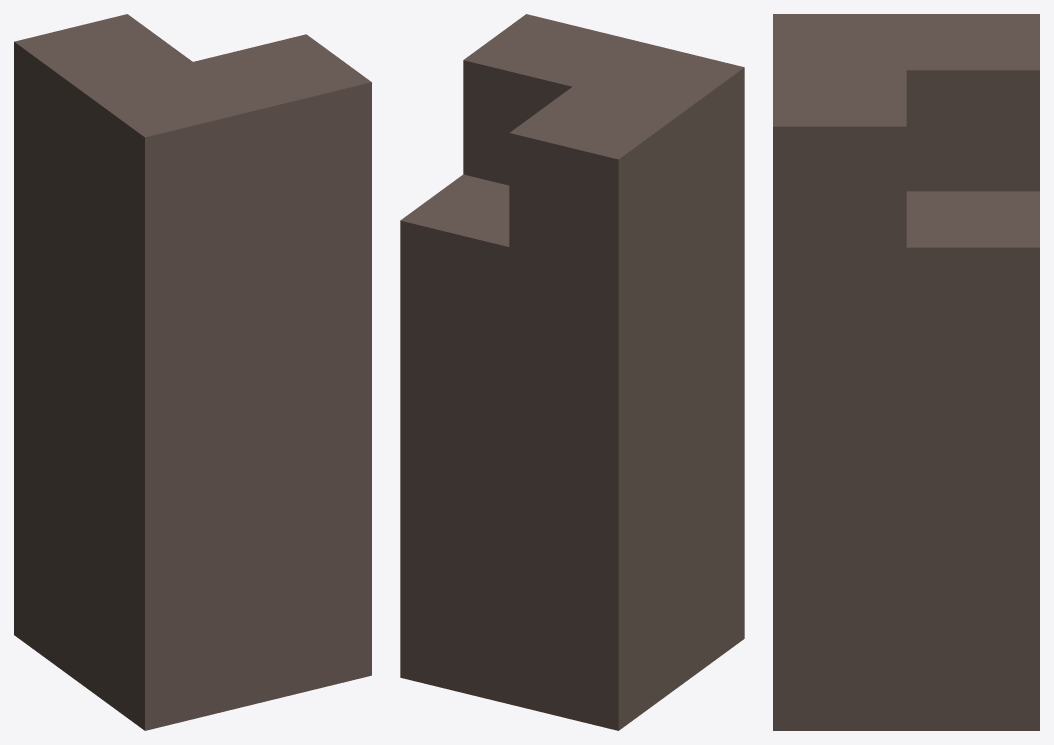
File: lamb__leg_fr.glb
3 views of the same model, side by side, from view 1: azimuth 30°, elevation 25°; view 2: azimuth 150°, elevation 25°; view 3: azimuth 270°, elevation 25° (orthographic). The views are drawn at different scales.
Parts seen in each view (by area): view 1: lamb__leg_fr; view 2: lamb__leg_fr; view 3: lamb__leg_fr.
Boxes of the visible parts, <box> form: lamb__leg_fr: <box>14,14,371,730</box>; lamb__leg_fr: <box>400,14,744,730</box>; lamb__leg_fr: <box>773,14,1039,730</box>.
Bounding box in the file's own units: 0.2 × 0.5 × 0.2.
Materials: 1 (1 with a texture image).
